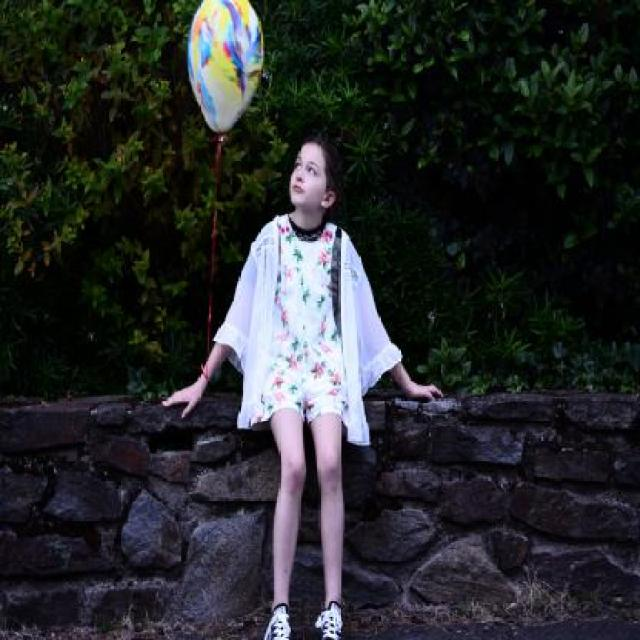balloon: (178, 0, 271, 146)
